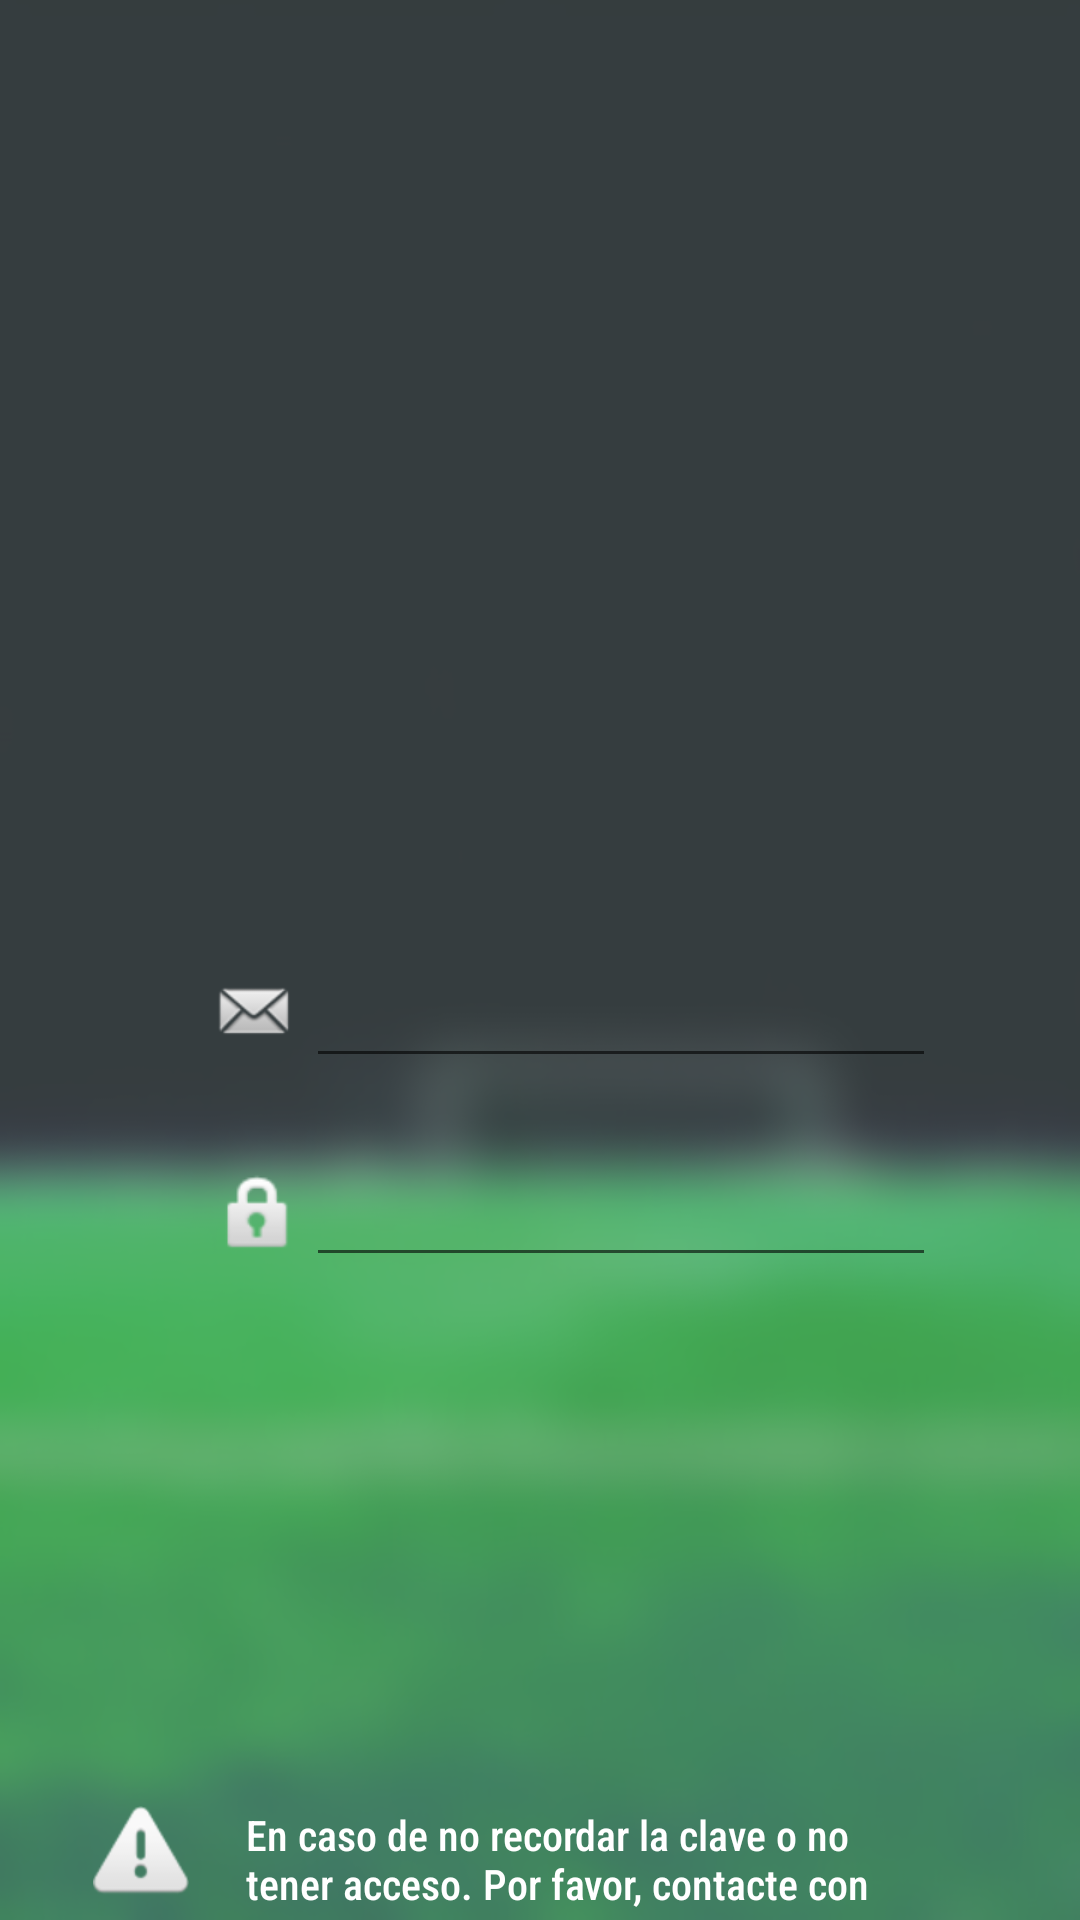

Locate icon controls on the screen. Image size 1080px x 1920px, boxes as [x1, y1, x2, y2].
alert: [93, 1806, 189, 1893]
lock idle: [213, 1153, 306, 1248]
sym action email: [219, 988, 289, 1034]
